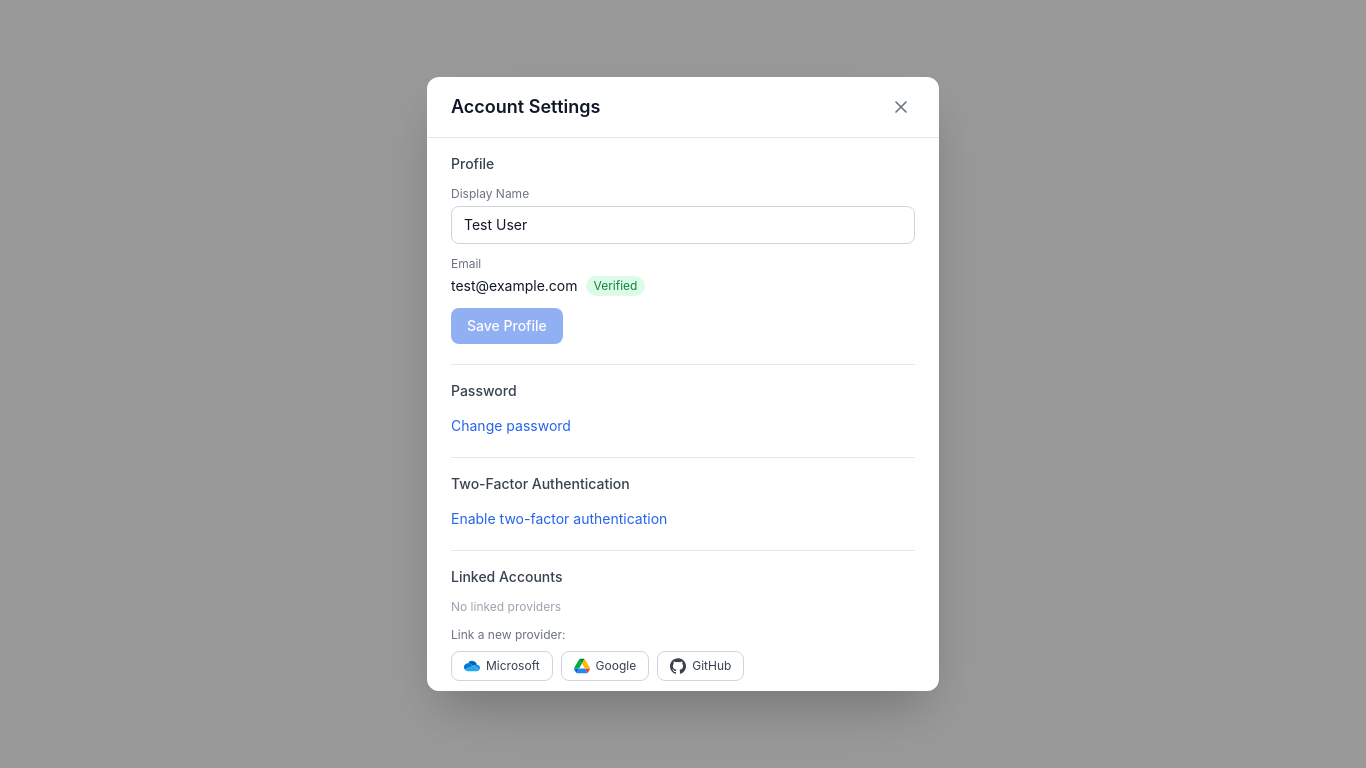
AccountModal › shows current password field when changing password
Click the button "Change password".
click(511, 426)  # box [451,416,571,436]
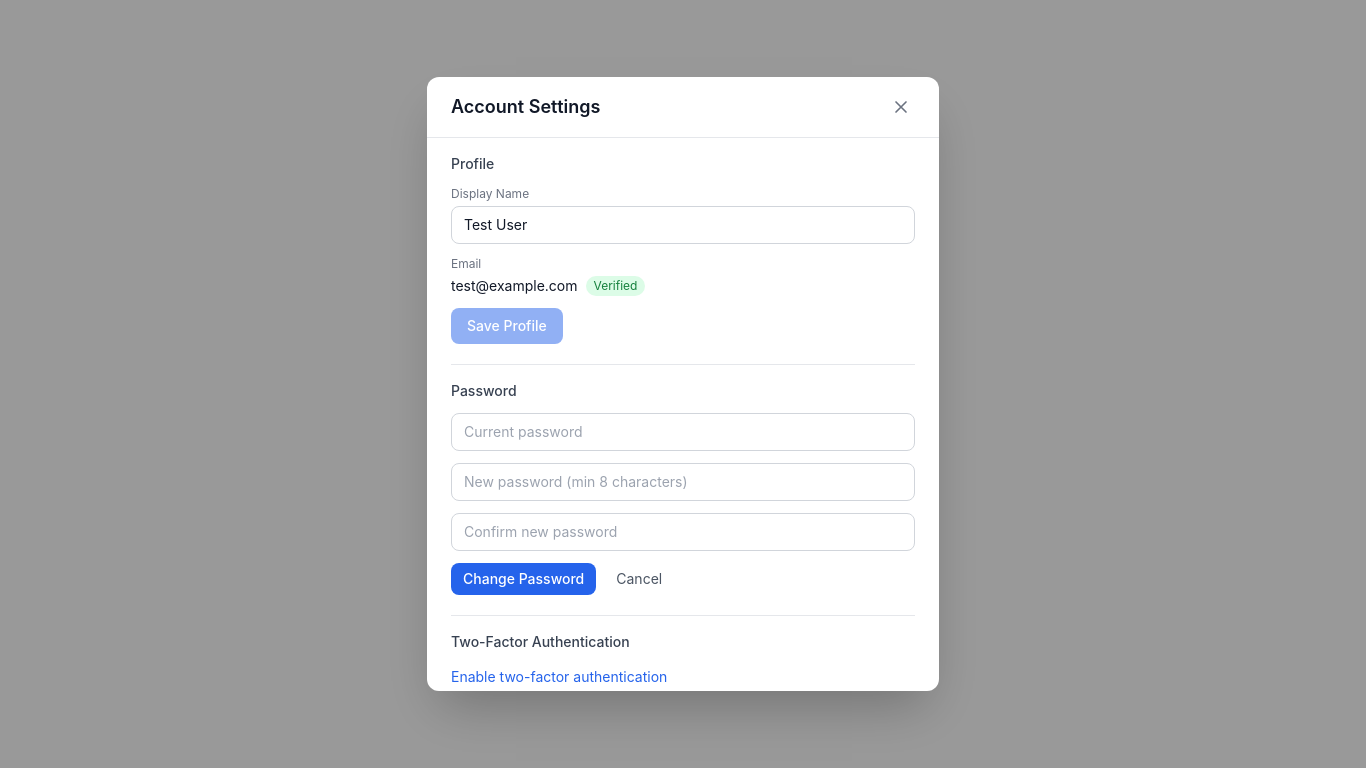
Check: the password field with placeholder "Current password" is shown, box [451,413,915,451]
Check: the password field with placeholder "Confirm new password" is shown, box [451,513,915,551]
